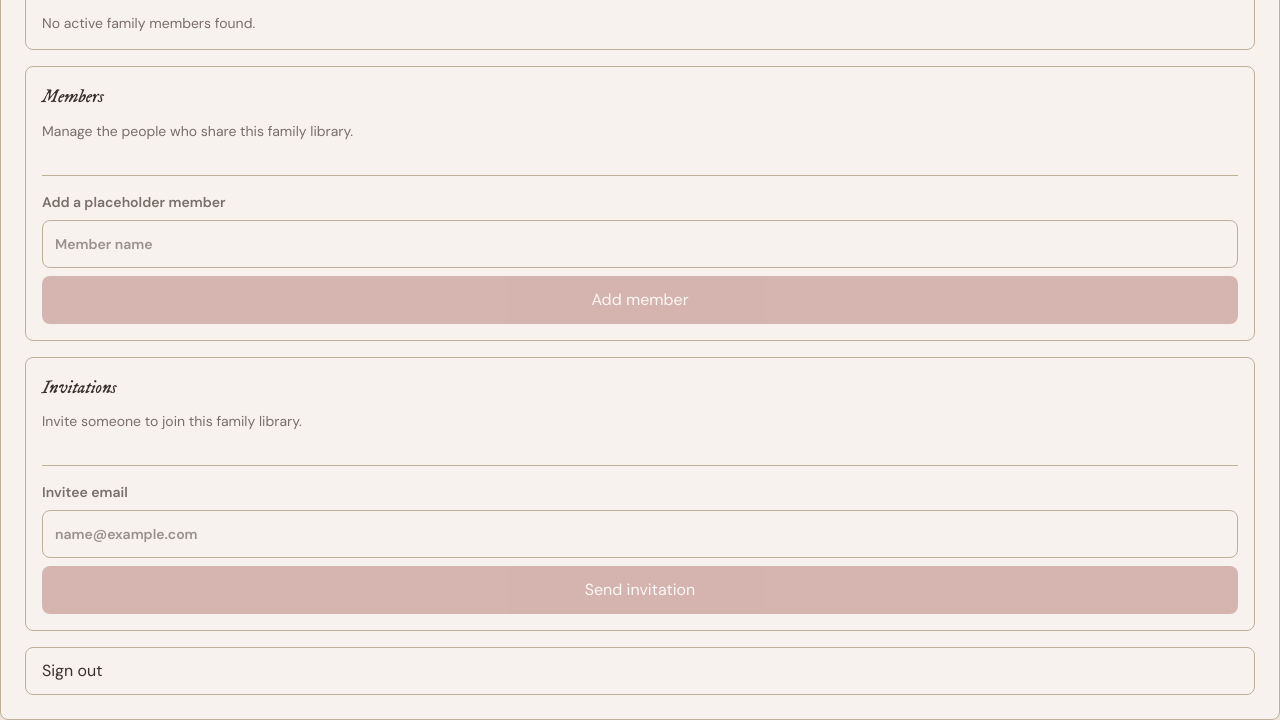
SettingsPage › creates an invitation and displays its one-time URL
(page scrolled)
Type "bob@example.com" into the field labelled "Invitee email" at (640, 534), box [42,510,1238,558]
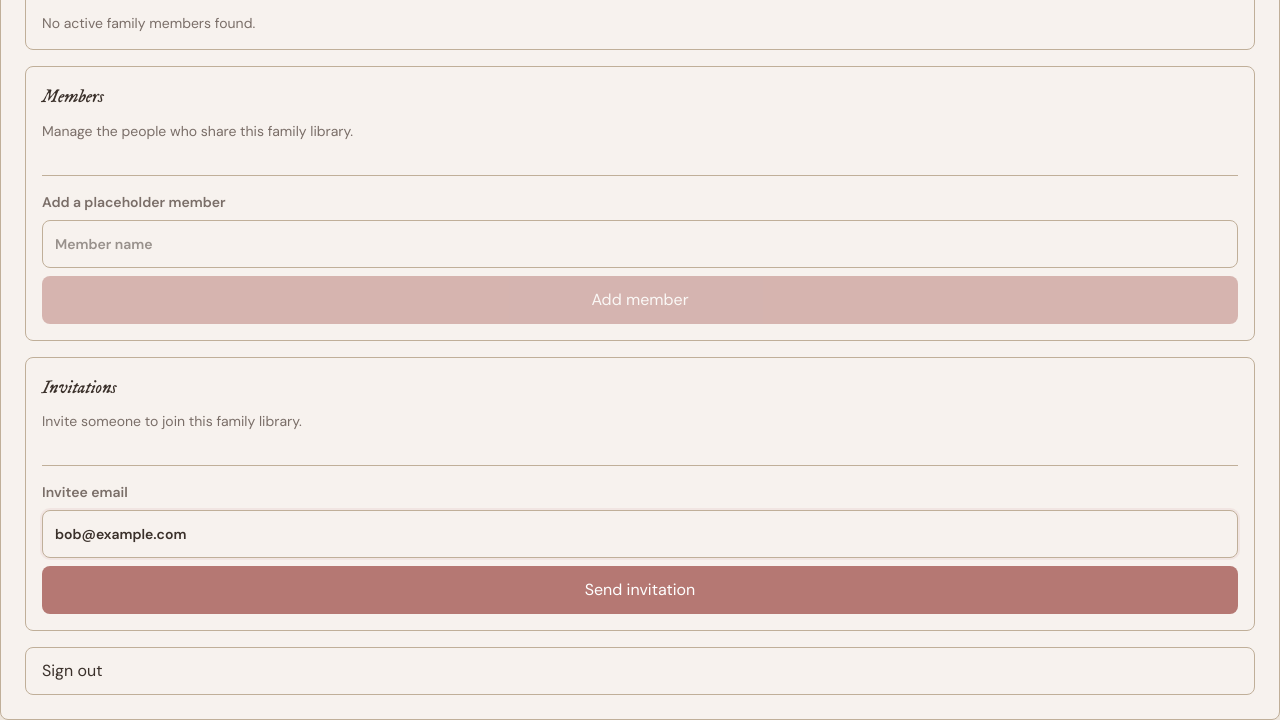
Click the button "Send invitation" at (640, 590), box [42,566,1238,614]
(page scrolled)
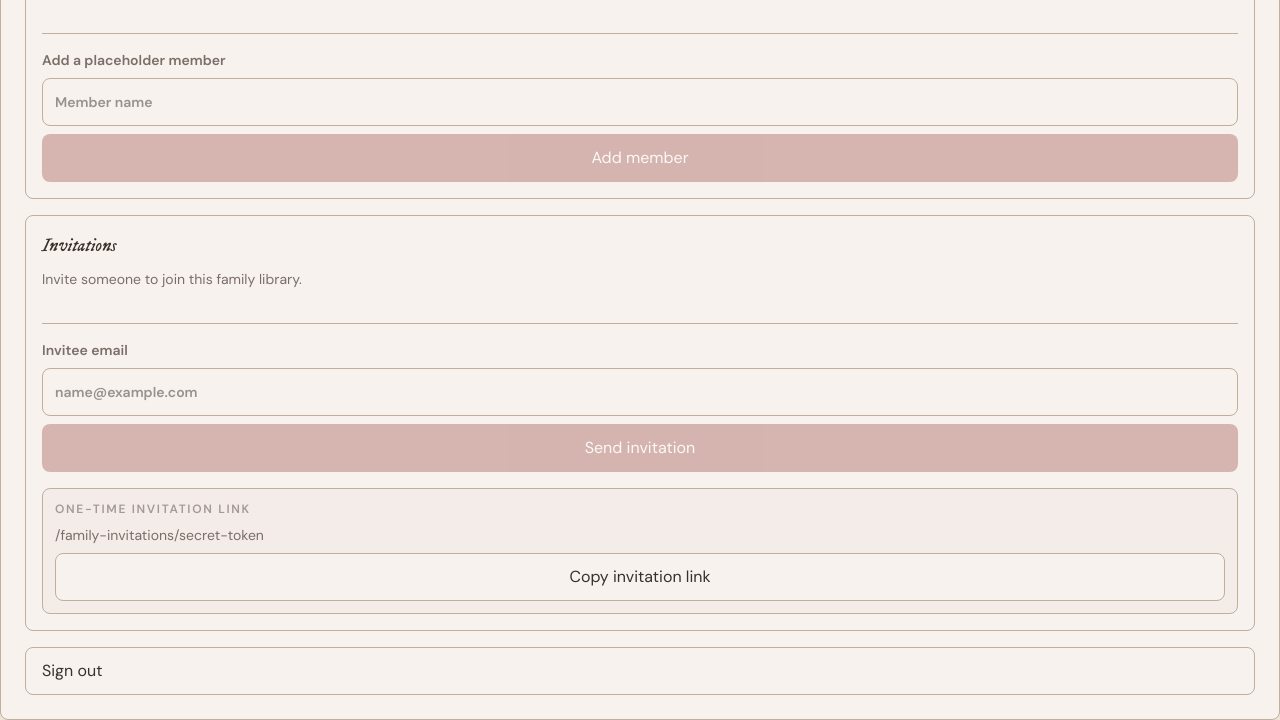
Expected: the text "/family-invitations/secret-token" is shown, [55,526,264,544]
Expected: the button "Copy invitation link" is shown, [55,554,1225,602]
